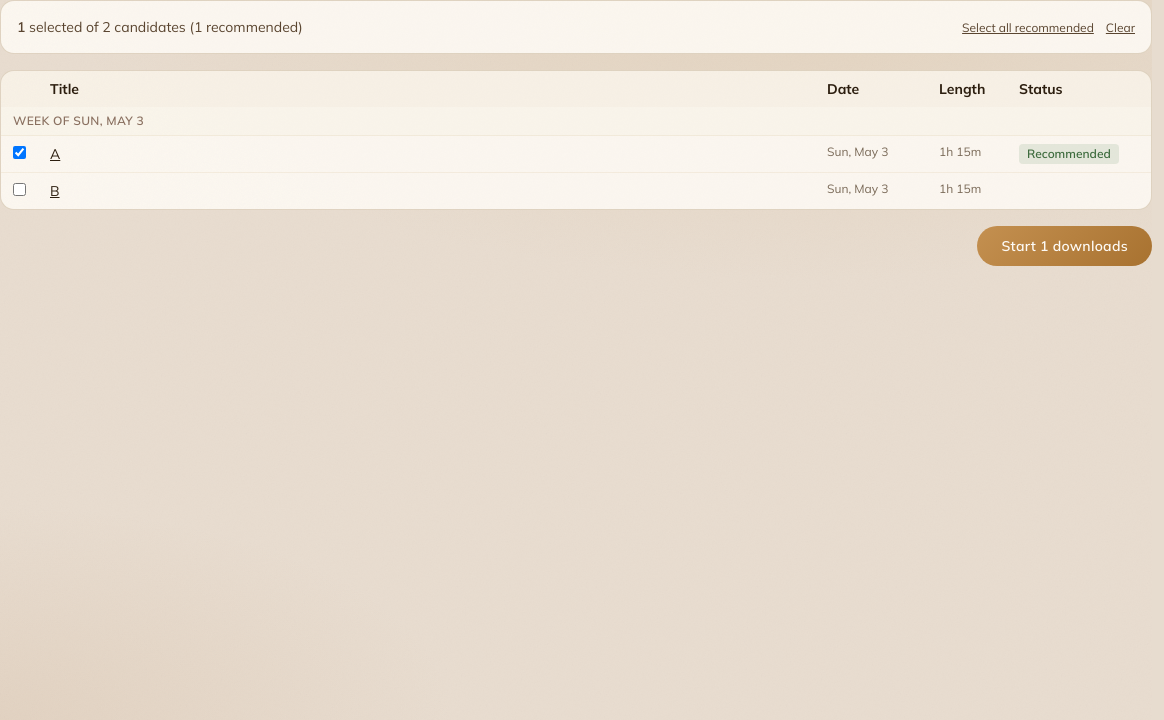
Test: <BulkImportFlow /> review (phase 2) › Start posts the selected ids and updates job status
Note: Add b to the selection.
Click the checkbox named "B" at coordinates (20, 190), box [13,183,26,196]
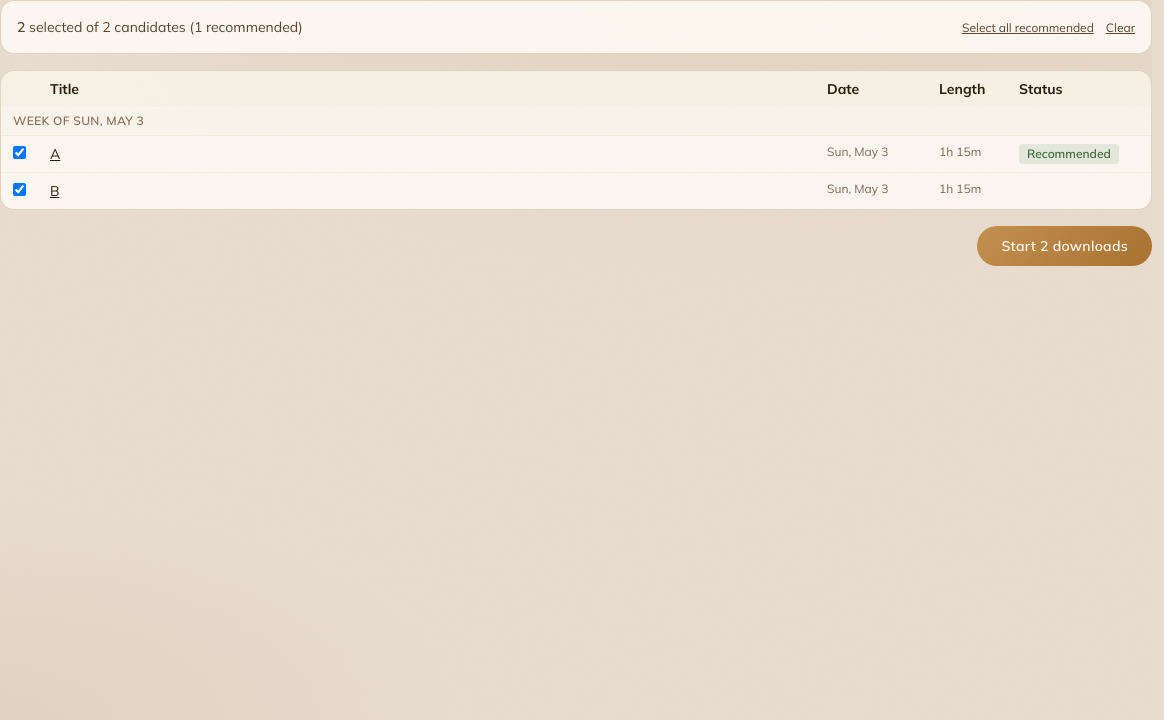
Click the button "Start 2 downloads" at coordinates (1065, 246), box [978,226,1152,266]
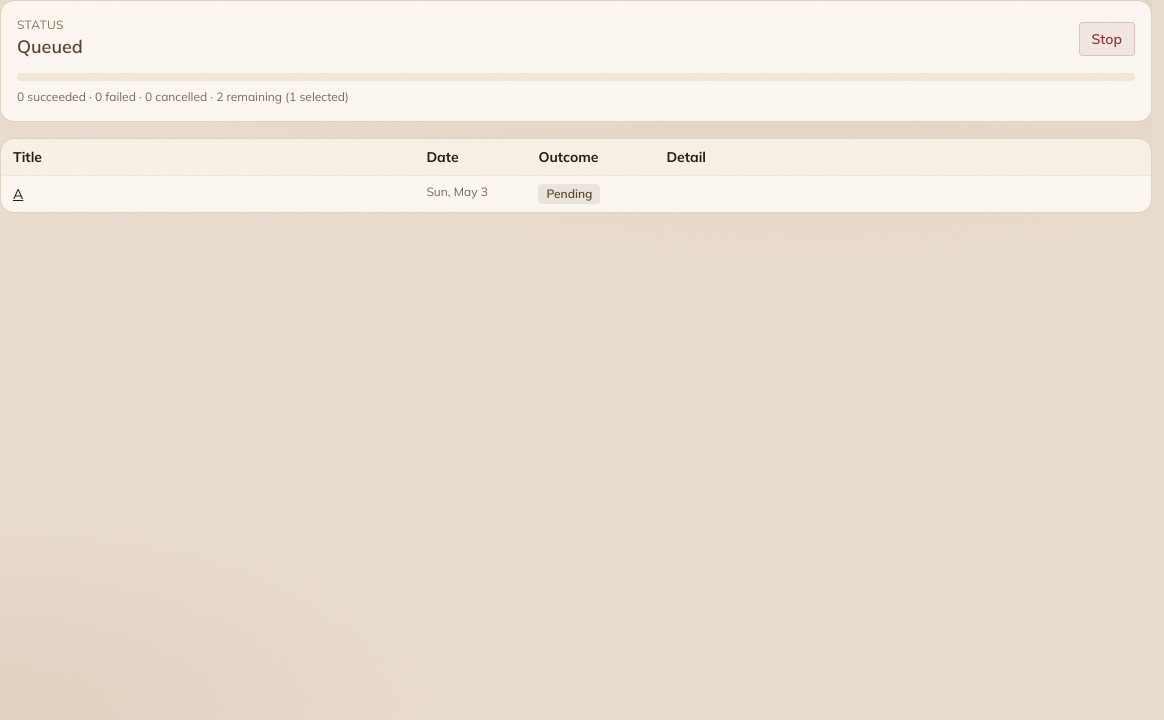
Result: the text "queued" is shown at [17,33,83,61]
